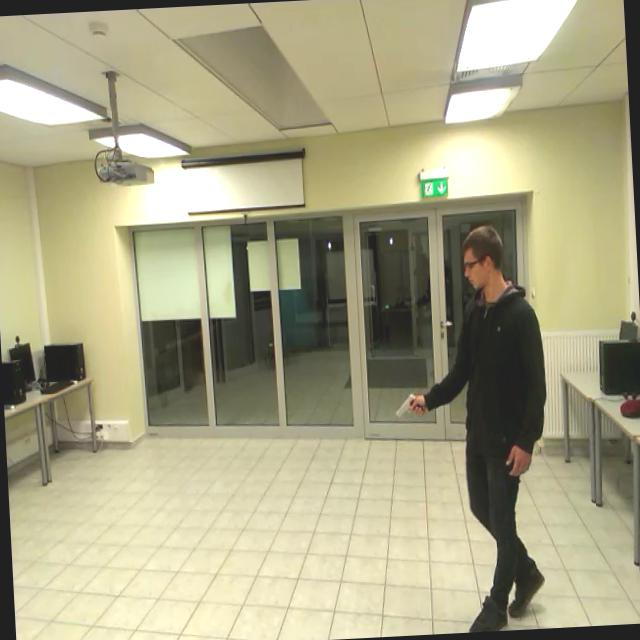handgun: (390, 383, 430, 431)
